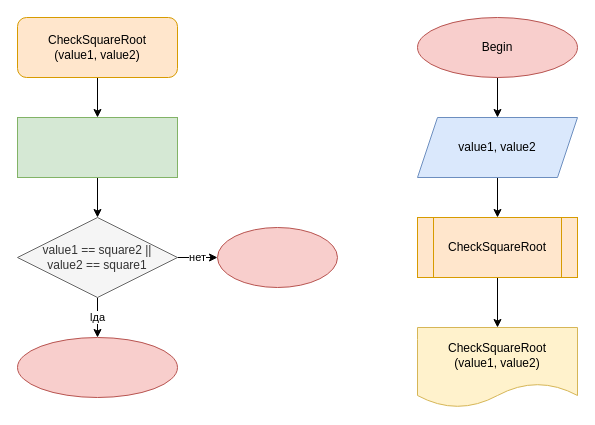
This 595x425 diagram has some shape labels left out. The centre of each missing label's shape, as x and y in pixels:
return "да": (97,367)
return "нет": (277,257)
square1 = value1 *value1 square2 = value2 * value2: (97,147)
